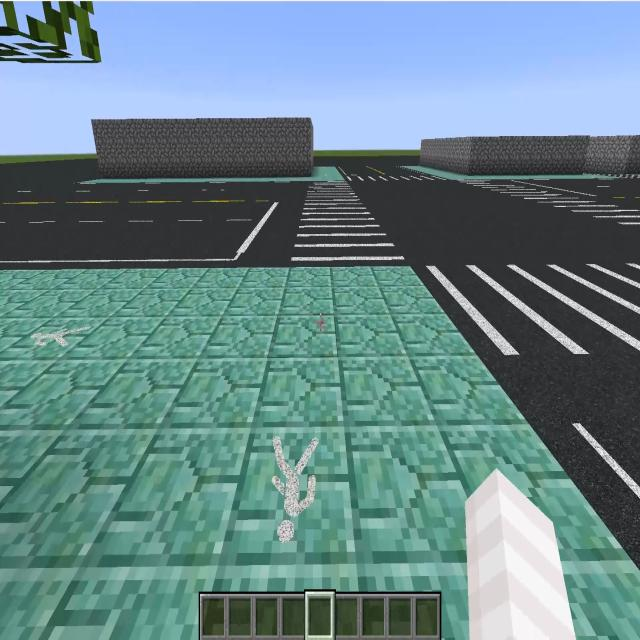crosswalk: (427, 263, 639, 355), (292, 181, 404, 263), (464, 179, 639, 224), (343, 174, 455, 181)
road: (0, 161, 308, 259), (496, 361, 637, 537), (347, 181, 637, 257), (314, 155, 419, 175)
sidewalk: (2, 268, 639, 639), (79, 166, 345, 183), (400, 165, 617, 180)
